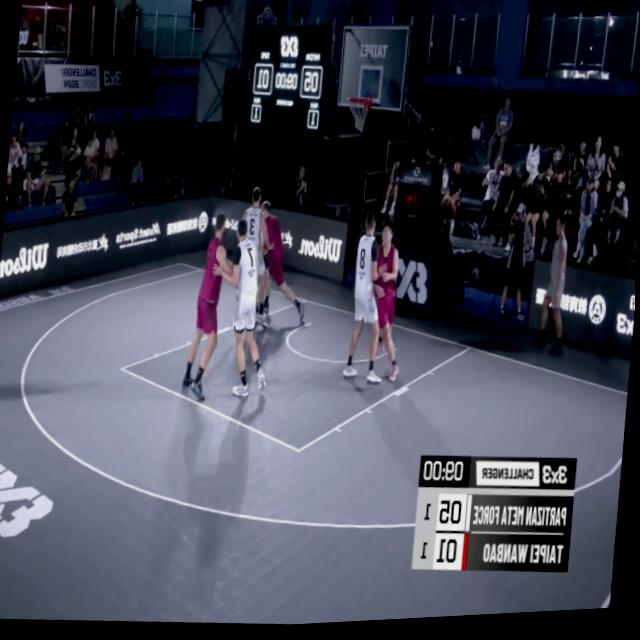ball: (256, 238, 272, 264)
hoop: (345, 97, 372, 138)
player: (204, 218, 280, 407), (182, 214, 234, 402), (343, 213, 397, 390), (249, 201, 313, 339), (234, 183, 283, 336), (370, 225, 409, 394)
